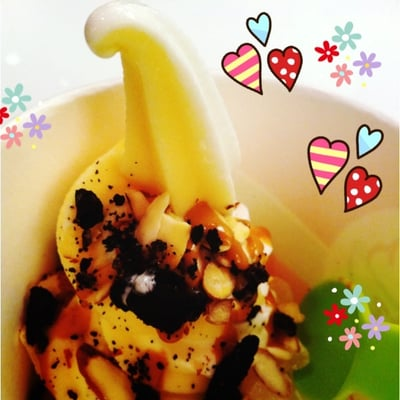taco: (221, 12, 302, 96), (307, 126, 383, 212)
